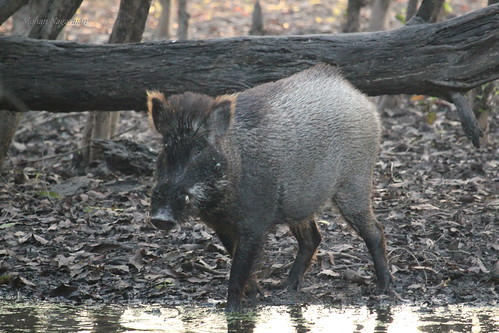wild boar: (131, 61, 406, 315)
